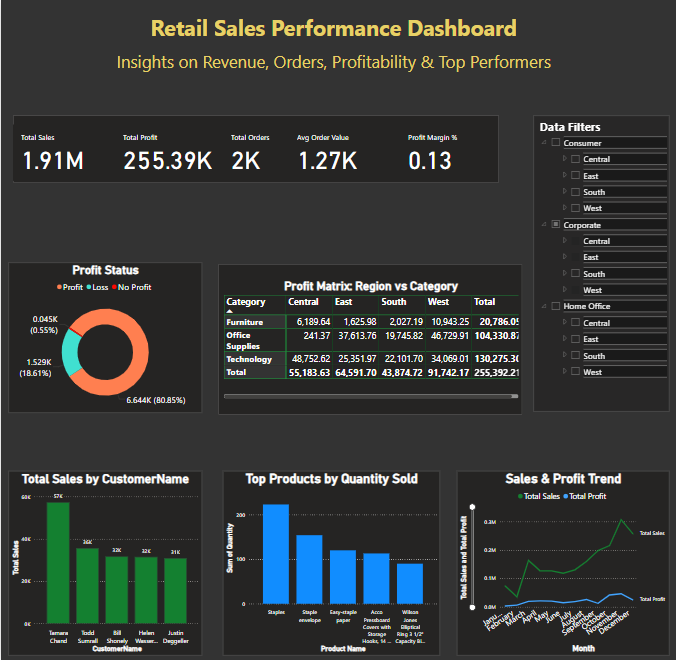

Layout of this report page (visuals, bound fields, positions):
{"tool":"powerbi","page":{"name":"Page 1","canvas":[1500,1500],"ordinal":0},"visuals":[{"type":"shape","box":[27.5,257.5,1080,150],"z":0},{"type":"cardVisual","fields":{"Data":["Average order .Total Sales"]},"box":[27.5,275,224.6,125],"z":1000},{"type":"donutChart","title":"Profit Status","fields":{"Category":["Average order .Profit Status"],"Y":["Average order .OrderID"]},"box":[18,582,430,334],"z":2000},{"type":"cardVisual","fields":{"Data":["Average order .Total Profit"]},"box":[252.5,275,240,125],"z":3000},{"type":"clusteredColumnChart","fields":{"Category":["Average order .CustomerName"],"Y":["Average order .Total Sales"]},"box":[18,1048,430,410],"z":4000},{"type":"shape","box":[483.3,586.7,675,335],"z":5000},{"type":"cardVisual","fields":{"Data":["Average order .Total Orders"]},"box":[492.5,277.5,172.5,120],"z":6000},{"type":"clusteredColumnChart","title":"Top Products by Quantity Sold","fields":{"Category":["Average order .Product Name"],"Y":["Average order .Quantity"]},"box":[492,1048,482,410],"z":7000},{"type":"cardVisual","fields":{"Data":["Average order .Avg Order Value"]},"box":[640,275,245,122.5],"z":8000},{"type":"lineChart","title":"Sales & Profit Trend","fields":{"Y":["Average order .Total Sales","Average order .Total Profit"],"Category":["Average order .Order Date.Variation.Date Hierarchy.Month"]},"box":[1014,1048,472,410],"z":9000},{"type":"cardVisual","fields":{"Data":["Average order .Profit Margin %"]},"box":[885,275,197.5,122.5],"z":10000},{"type":"pivotTable","title":"Profit Matrix: Region vs Category","fields":{"Rows":["Average order .Category"],"Columns":["Average order .order_region"],"Values":["Average order .Profit"]},"box":[488.3,620,665,270],"z":11000},{"type":"slicer","fields":{"Values":["Average order .Segment","Average order .CustomerRegion","Average order .Order Date.Variation.Date Hierarchy.Year"]},"box":[1184,258,302,658],"z":12000},{"type":"textbox","box":[84,24,1312,150],"z":13000}]}

Visuals, with their boxes in screenshot pixels (x1, y1, x2, y2), scaled from the page's 1500x1500 canvas onto the 676x660 screenshot:
shape: 12,113,499,179
cardVisual - Average order .Total Sales: 12,121,114,176
"Profit Status" donutChart: 8,256,202,403
cardVisual - Average order .Total Profit: 114,121,222,176
clusteredColumnChart - Average order .CustomerName x Average order .Total Sales: 8,461,202,642
shape: 218,258,522,406
cardVisual - Average order .Total Orders: 222,122,300,175
"Top Products by Quantity Sold" clusteredColumnChart: 222,461,439,642
cardVisual - Average order .Avg Order Value: 288,121,399,175
"Sales & Profit Trend" lineChart: 457,461,670,642
cardVisual - Average order .Profit Margin %: 399,121,488,175
"Profit Matrix: Region vs Category" pivotTable: 220,273,520,392
slicer - Average order .Segment x Average order .CustomerRegion: 534,114,670,403
textbox: 38,11,629,77
